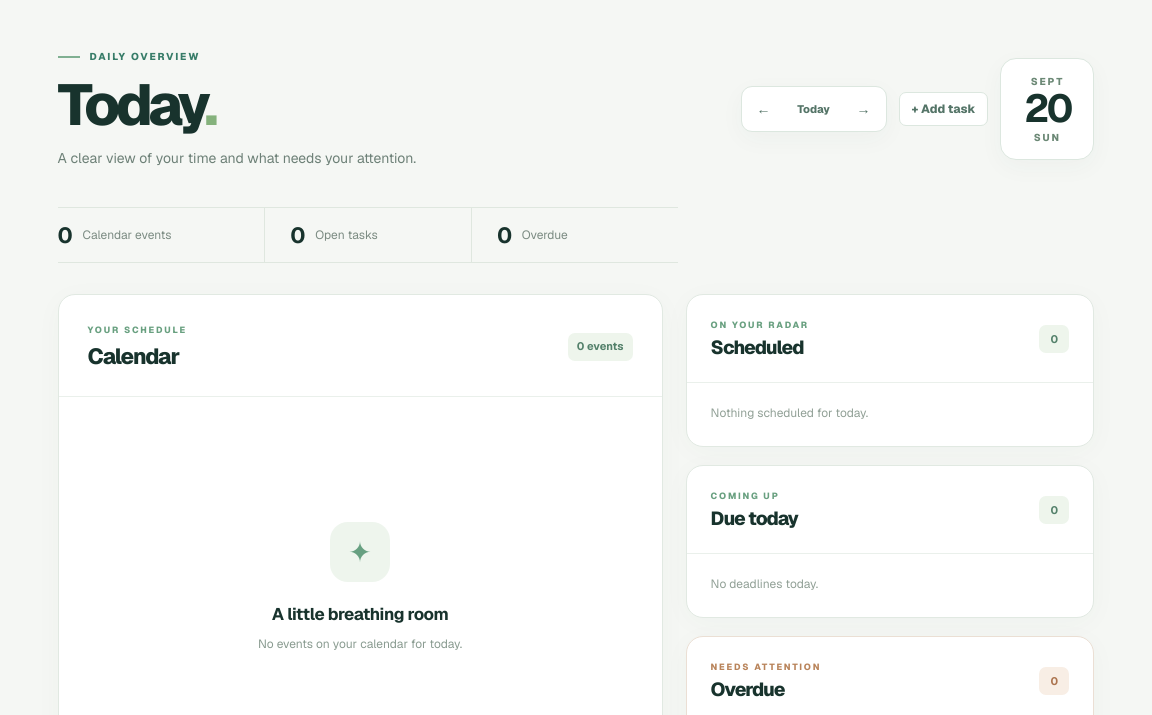
Test: Task capture › still confirms the save when the task does not belong on the selected day
This screenshot has width=1152, height=715.
Click the button "+ Add task" at (944, 109), box [899,92,988,126]
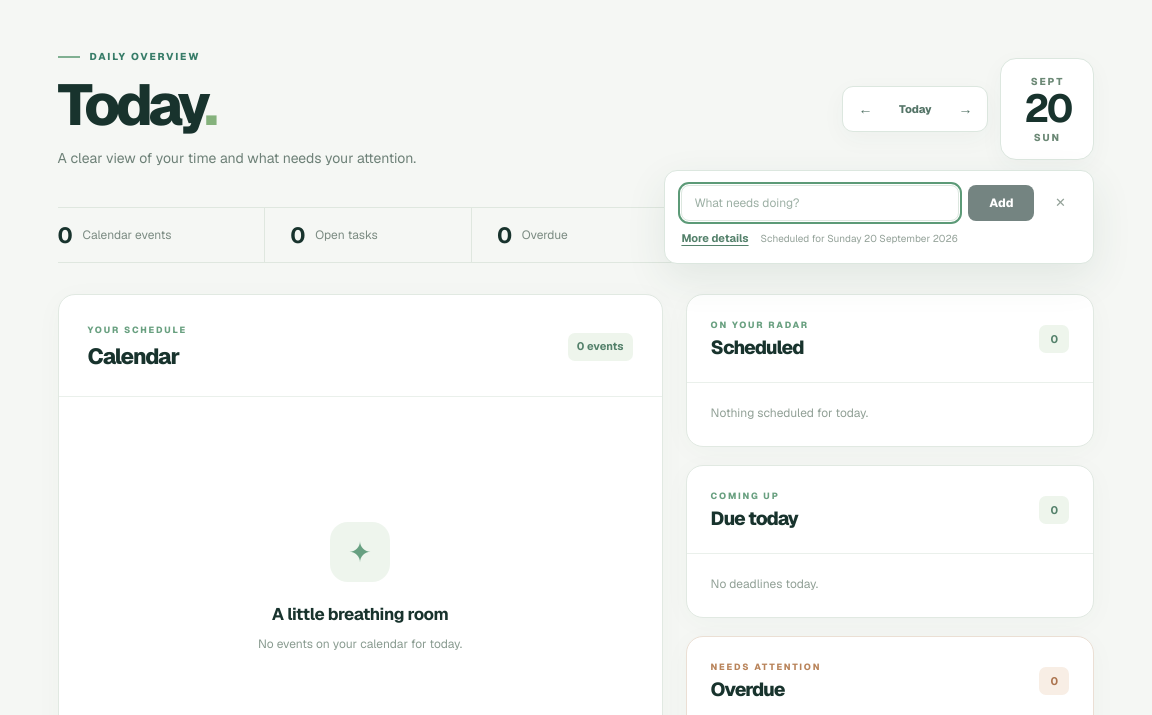
Click the button "More details" at (715, 239), box [681,230,749,247]
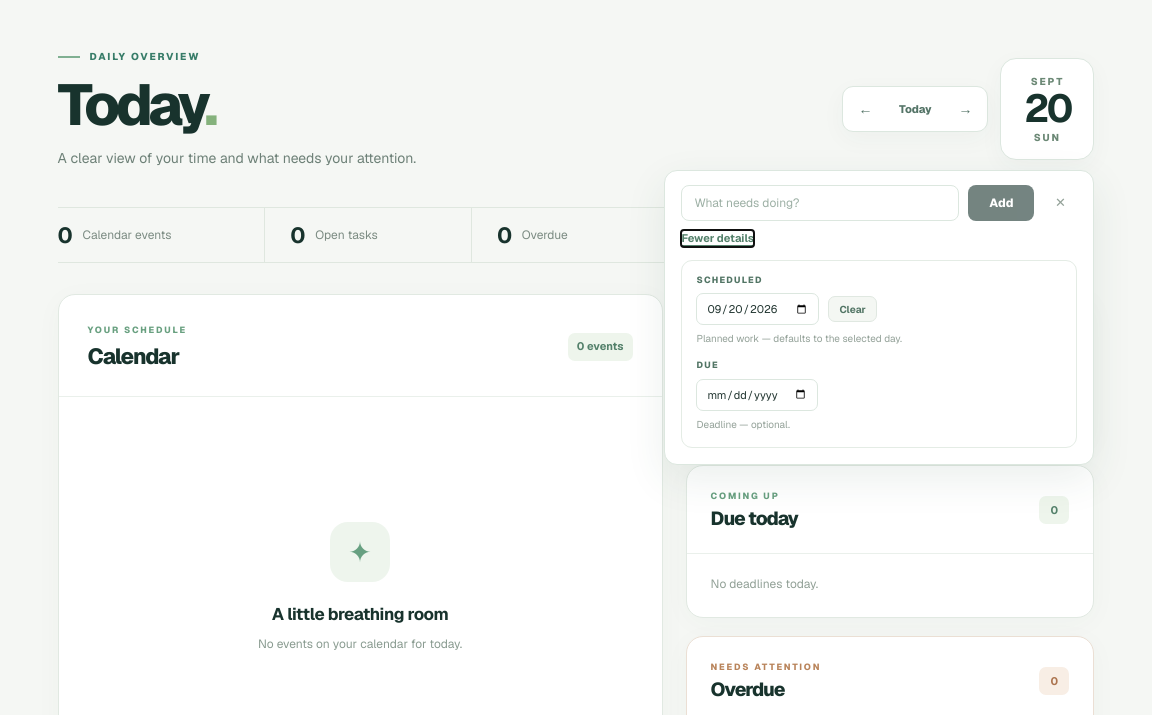
Type "2026-09-22" into the date field showing "2026-09-20" at (758, 309), box [696,293,819,325]
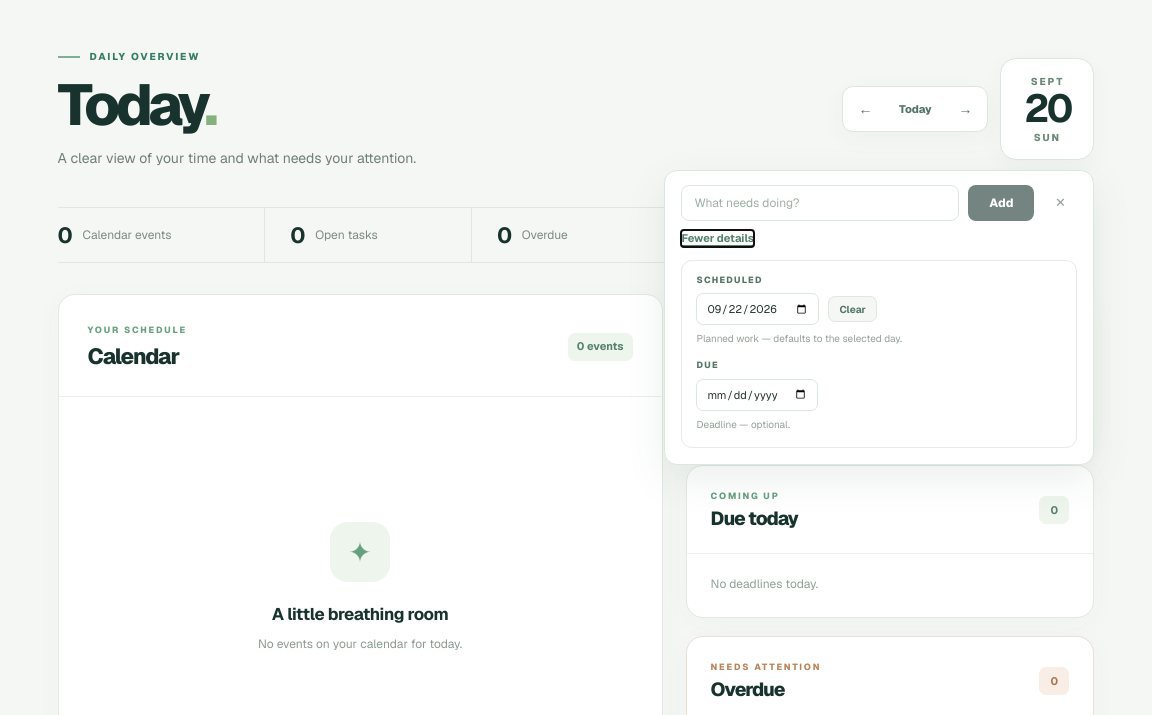
Type "Later task" into the field with placeholder "What needs doing?" at (820, 203), box [681,185,959,221]
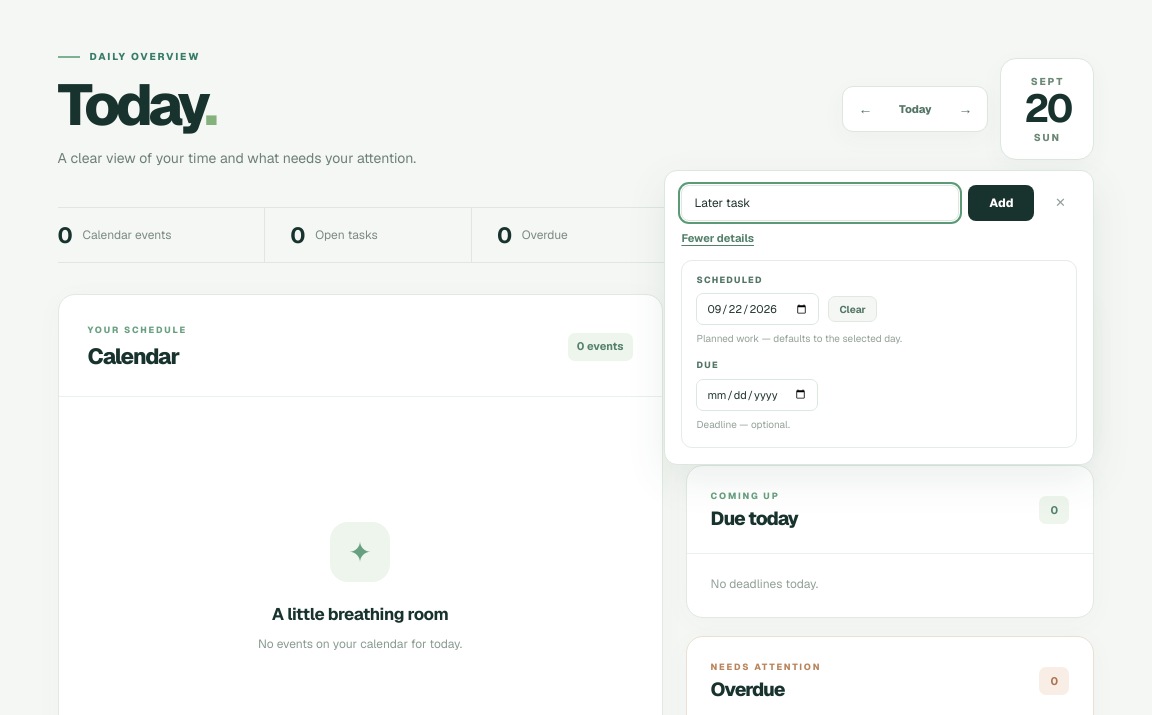
Click the button "Add" at (1001, 203), box [968,185,1034,221]
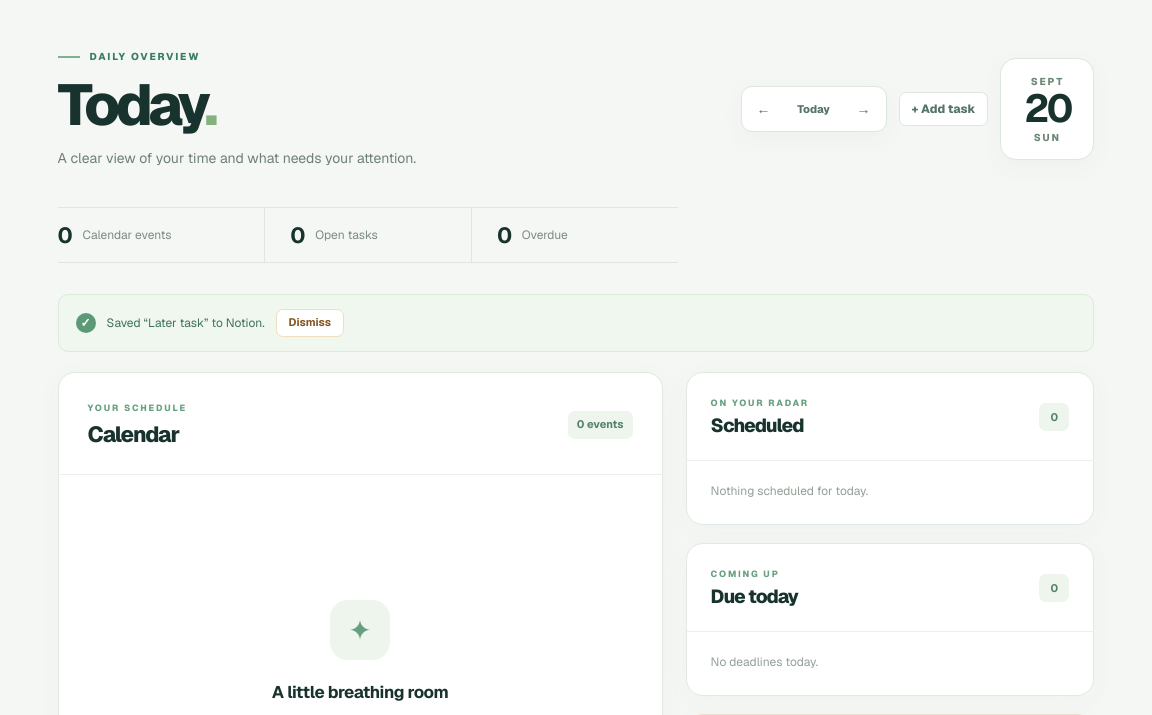
Expected: the text "Saved “Later task” to Notion." is shown, [107,314,265,332]
